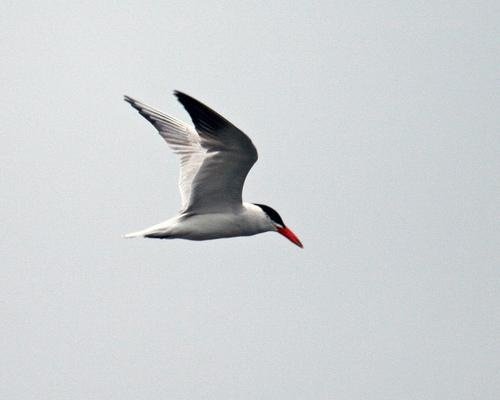bird: (121, 90, 308, 248)
